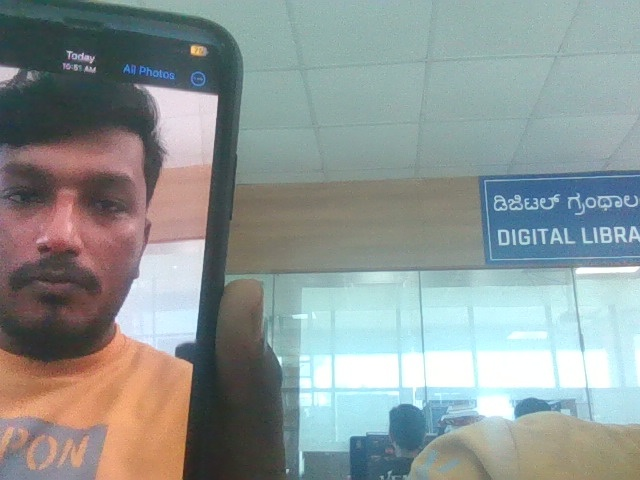fake: (0, 35, 234, 366)
